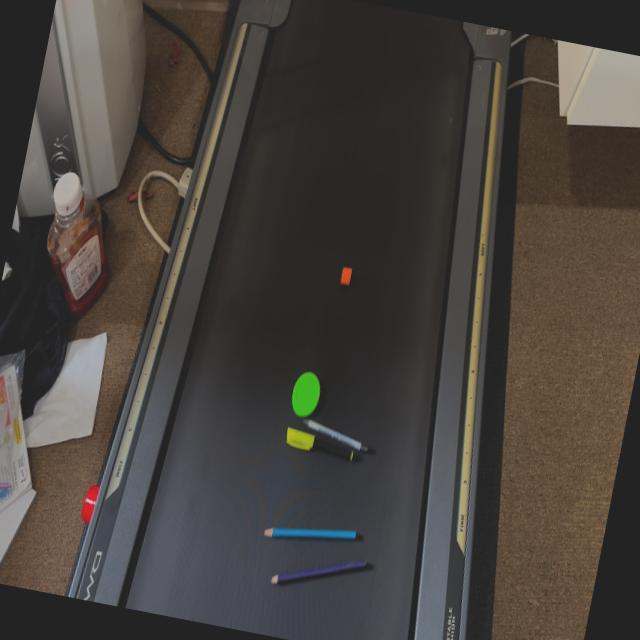Trash: (279, 368, 384, 472), (268, 544, 372, 602), (259, 514, 359, 552), (337, 262, 355, 290)
